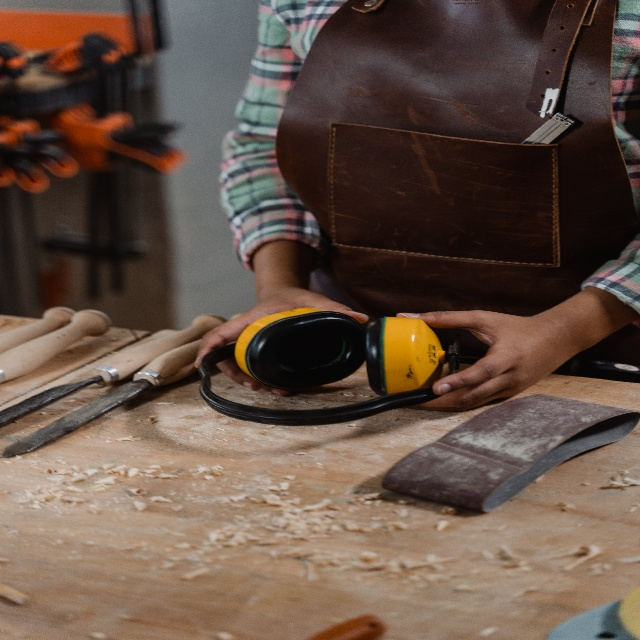Sin_guantes: (193, 290, 375, 385), (400, 302, 540, 402)
